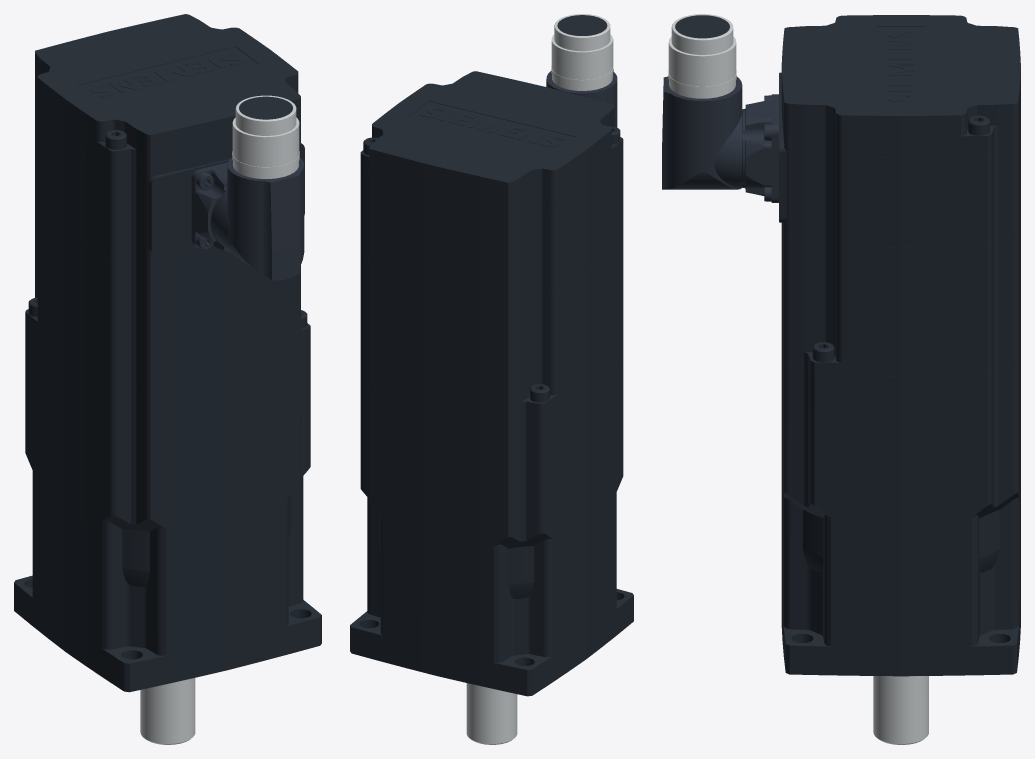
3 renders of one model, left to right at view 1: azimuth 30°, elevation 25°; view 2: azimuth 150°, elevation 25°; view 3: azimuth 270°, elevation 25°, orthographic. The views are drawn at different scales.
Visible parts, largest first — view 1: 1FK21034AH100MA0_PART1, 1FK21034AH100MA0_PART3, 1FK21034AH100MA0_PART4, 1FK21034AH100MA0_PART7, 1FK21034AH100MA0_PART5, 1FK21034AH100MA0_PART2, 1FK21034AH100MA0_PART10, 1FK21034AH100MA0_PART6, 1FK21034AH100MA0_PART8; view 2: 1FK21034AH100MA0_PART1, 1FK21034AH100MA0_PART3, 1FK21034AH100MA0_PART4, 1FK21034AH100MA0_PART5, 1FK21034AH100MA0_PART7, 1FK21034AH100MA0_PART10, 1FK21034AH100MA0_PART8; view 3: 1FK21034AH100MA0_PART1, 1FK21034AH100MA0_PART4, 1FK21034AH100MA0_PART3, 1FK21034AH100MA0_PART5, 1FK21034AH100MA0_PART7, 1FK21034AH100MA0_PART10, 1FK21034AH100MA0_PART6, 1FK21034AH100MA0_PART8, 1FK21034AH100MA0_PART2.
Part boxes in pixels (x1,y1,x2,y2): 1FK21034AH100MA0_PART1: (14,324,321,692); 1FK21034AH100MA0_PART3: (25,183,310,391); 1FK21034AH100MA0_PART4: (35,14,300,176); 1FK21034AH100MA0_PART7: (212,95,304,280); 1FK21034AH100MA0_PART5: (35,94,300,264); 1FK21034AH100MA0_PART2: (147,142,304,255); 1FK21034AH100MA0_PART10: (140,678,195,744); 1FK21034AH100MA0_PART6: (191,162,230,252); 1FK21034AH100MA0_PART8: (239,96,292,119); 1FK21034AH100MA0_PART1: (350,357,633,696); 1FK21034AH100MA0_PART3: (360,241,623,419); 1FK21034AH100MA0_PART4: (360,71,623,220); 1FK21034AH100MA0_PART5: (360,159,623,302); 1FK21034AH100MA0_PART7: (546,14,617,127); 1FK21034AH100MA0_PART10: (466,683,517,744); 1FK21034AH100MA0_PART8: (557,15,607,35); 1FK21034AH100MA0_PART1: (781,328,1020,676); 1FK21034AH100MA0_PART4: (781,15,1020,157); 1FK21034AH100MA0_PART3: (781,200,1020,376); 1FK21034AH100MA0_PART5: (781,110,1020,247); 1FK21034AH100MA0_PART7: (662,14,742,189); 1FK21034AH100MA0_PART10: (873,676,928,744); 1FK21034AH100MA0_PART6: (743,94,779,202); 1FK21034AH100MA0_PART8: (675,15,729,38); 1FK21034AH100MA0_PART2: (779,72,786,222).
Bounding box in the file's own units: 0.06 × 0.1957 × 0.09.
